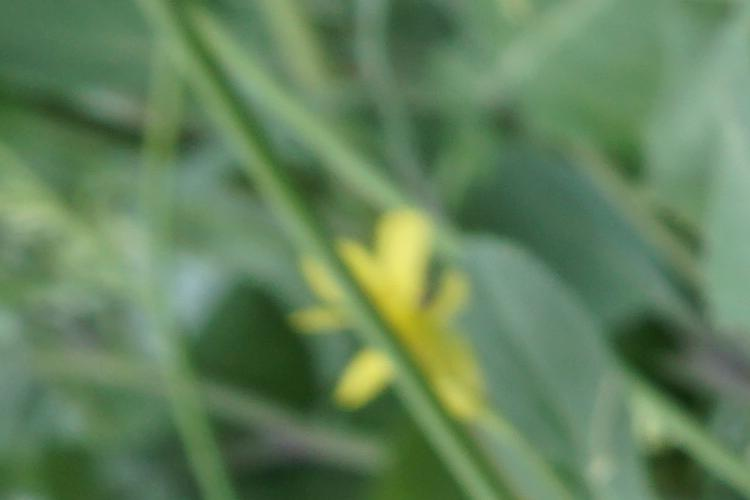yellow: (300, 213, 495, 413)
